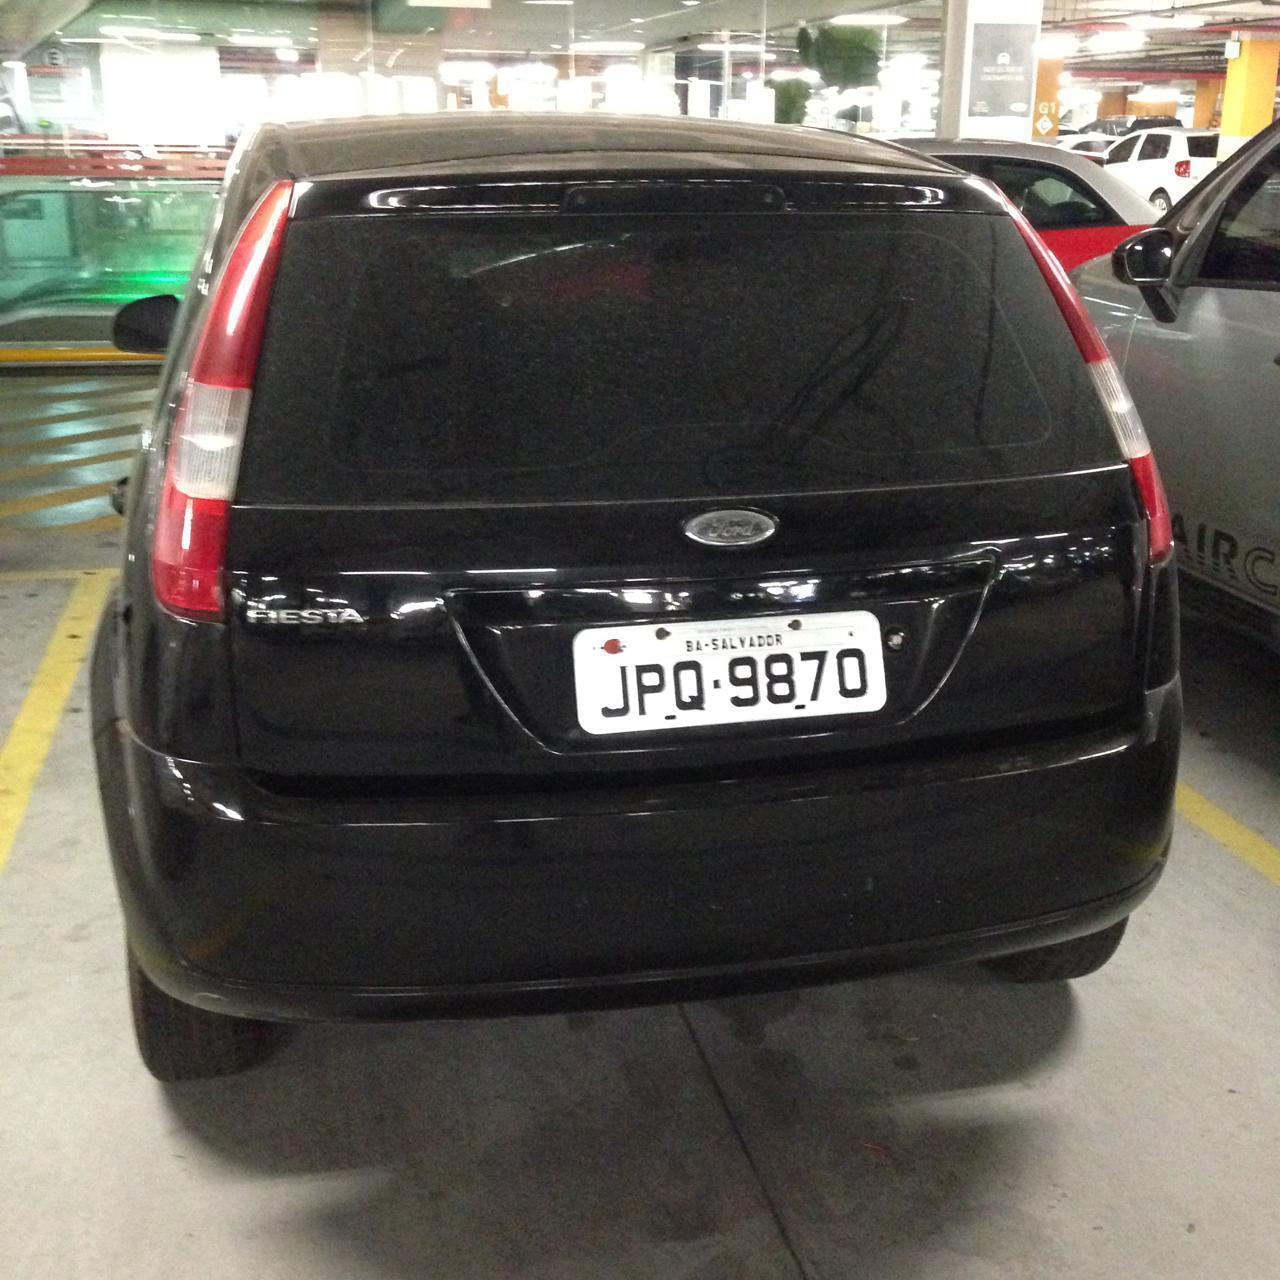placa de veiculo: (540, 594, 911, 749)
